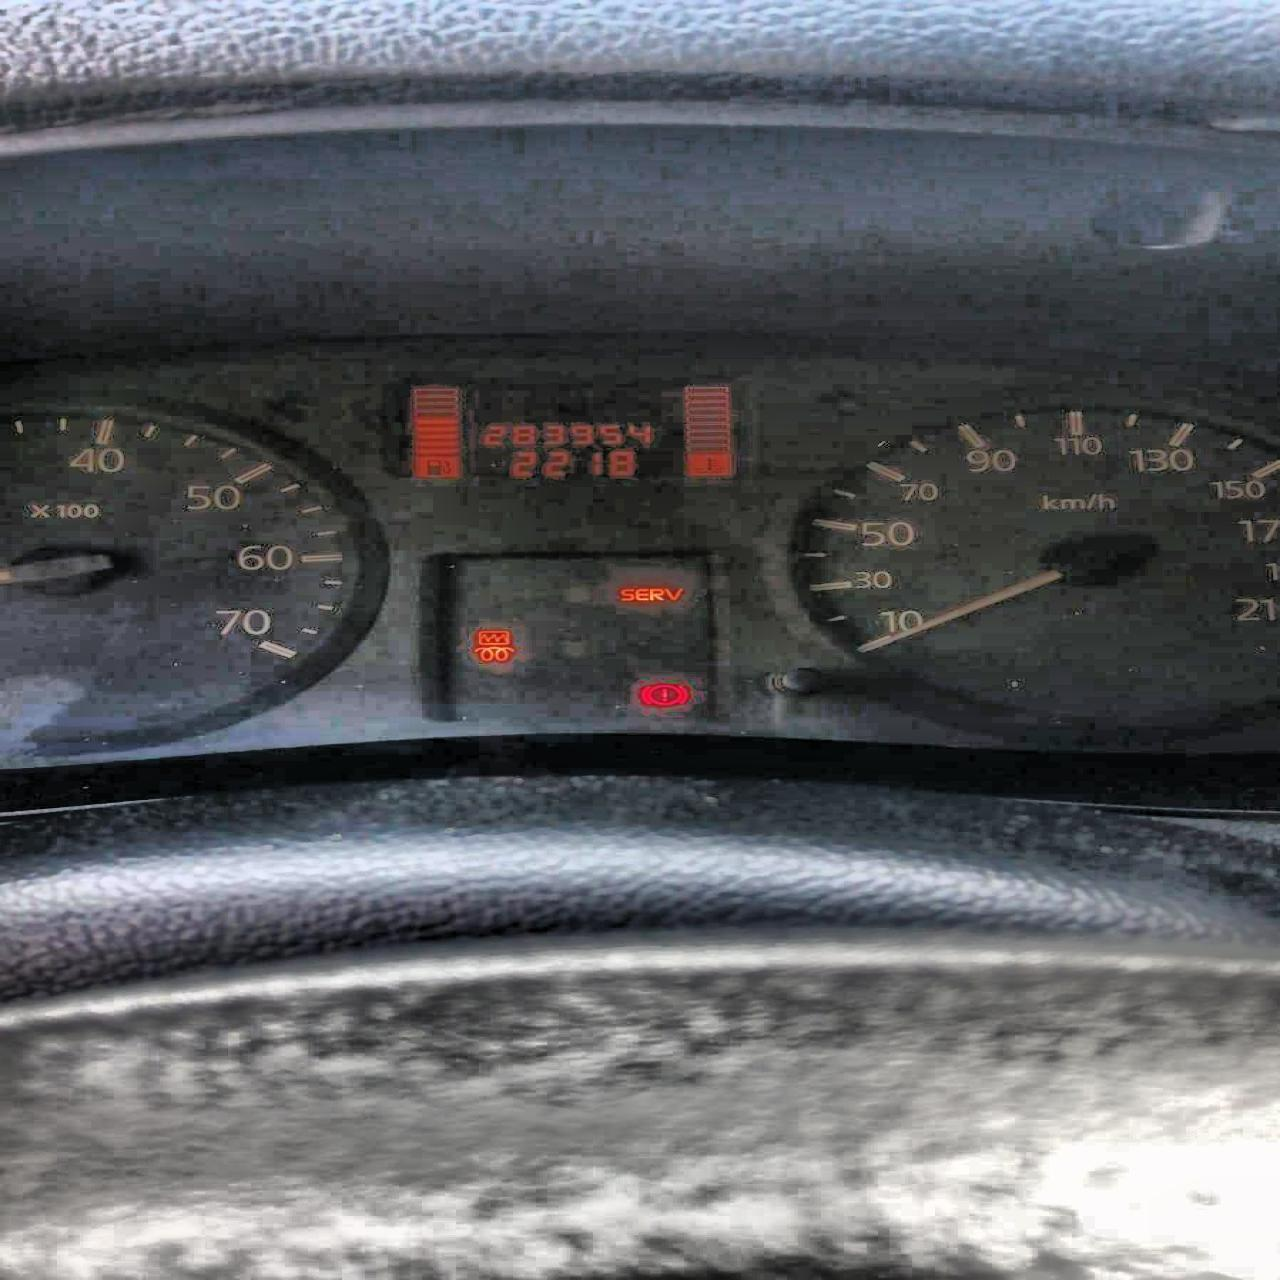1: (591, 451, 601, 475)
2: (543, 450, 568, 477), (510, 450, 536, 477), (482, 425, 506, 445)
3: (542, 425, 565, 444)
4: (626, 424, 652, 443)
5: (598, 424, 621, 444)
8: (607, 450, 634, 476), (511, 425, 535, 444)
9: (570, 425, 592, 445)
odometer: (374, 372, 771, 486)
